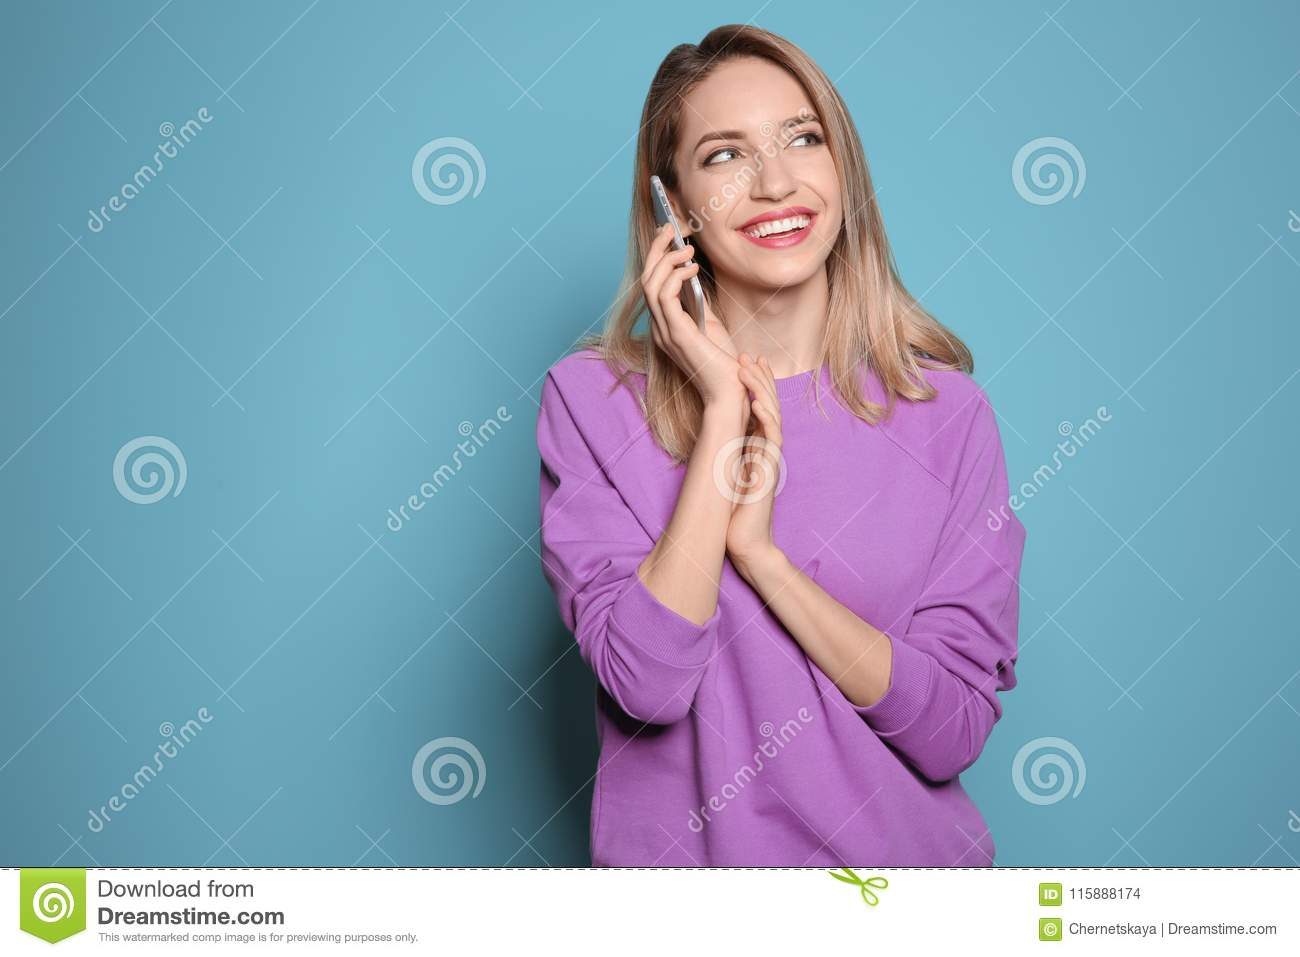phone: (639, 174, 718, 328)
talk: (636, 112, 844, 398)
